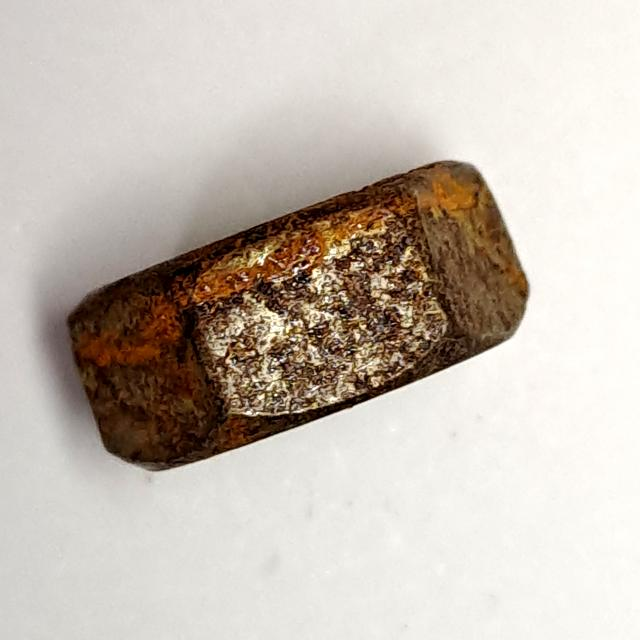Side_Rust: (47, 138, 550, 508)
